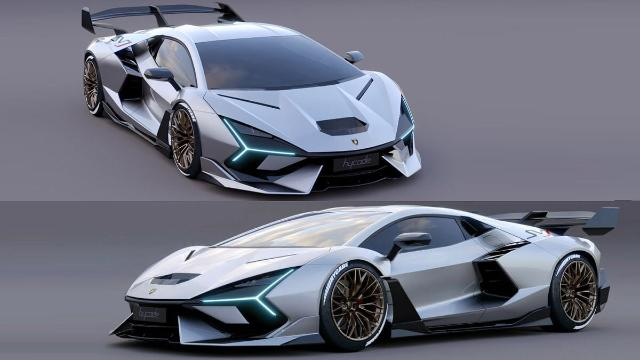lamborghini: (108, 207, 620, 351), (81, 2, 423, 196)
